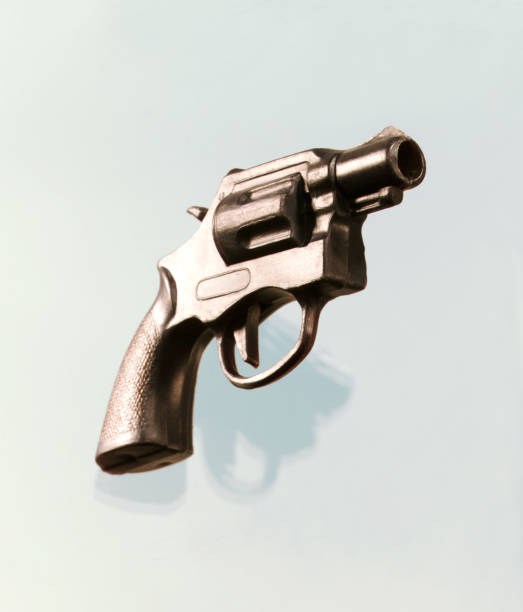pistol: (86, 116, 432, 478)
